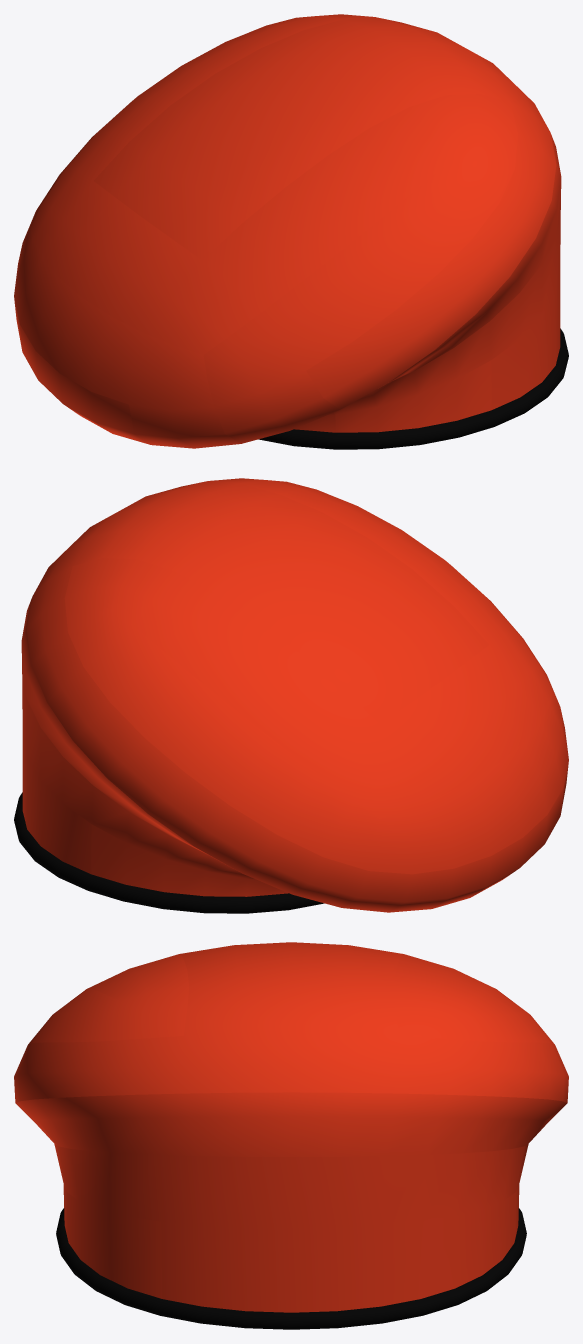
Rendered from outfit_beret.glb.
The picture shows the model from 3 angles, top to bottom: view 1: azimuth 30°, elevation 25°; view 2: azimuth 150°, elevation 25°; view 3: azimuth 270°, elevation 25°; orthographic projection.
Parts seen in each view (by area): view 1: outfit_beret; view 2: outfit_beret; view 3: outfit_beret.
Part boxes in pixels (x1,y1,x2,y2): outfit_beret: (14,14,568,449); outfit_beret: (14,478,568,913); outfit_beret: (14,942,568,1329).
Size of the model in its own units: 0.5044 by 0.3 by 0.52.
